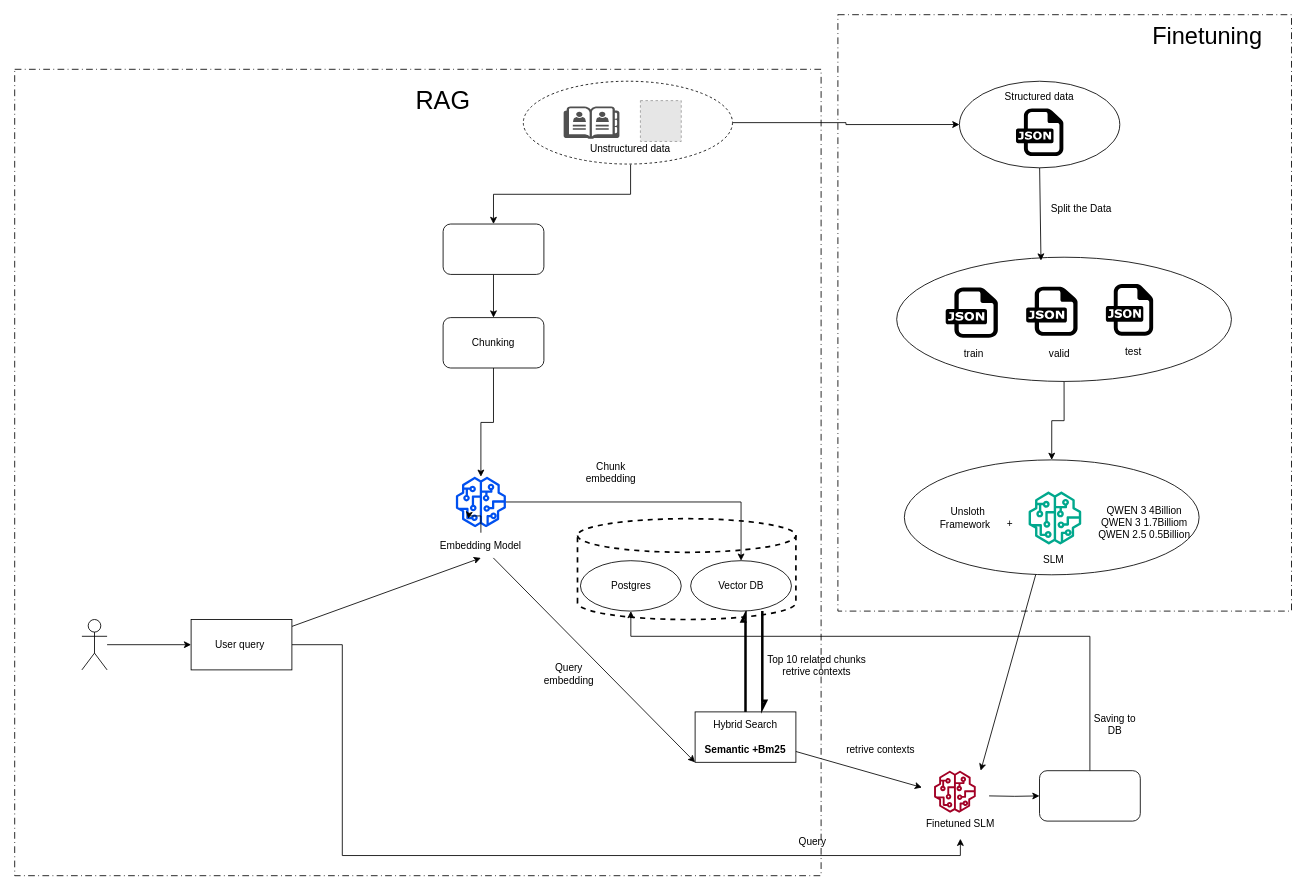
The diagram is 1306 pixels wide and 890 high, and some of its shapes have lost their labels. Grey dashed boxes stand in for pictures. Each missing label, with the centre of its shape:
"Extract" goes at (x=493, y=248).
"Outpurt (laws , past cases, recommended actions )" goes at (x=1089, y=795).
"User (PUblic, Law Student, Lawyer)" goes at (x=94, y=644).
